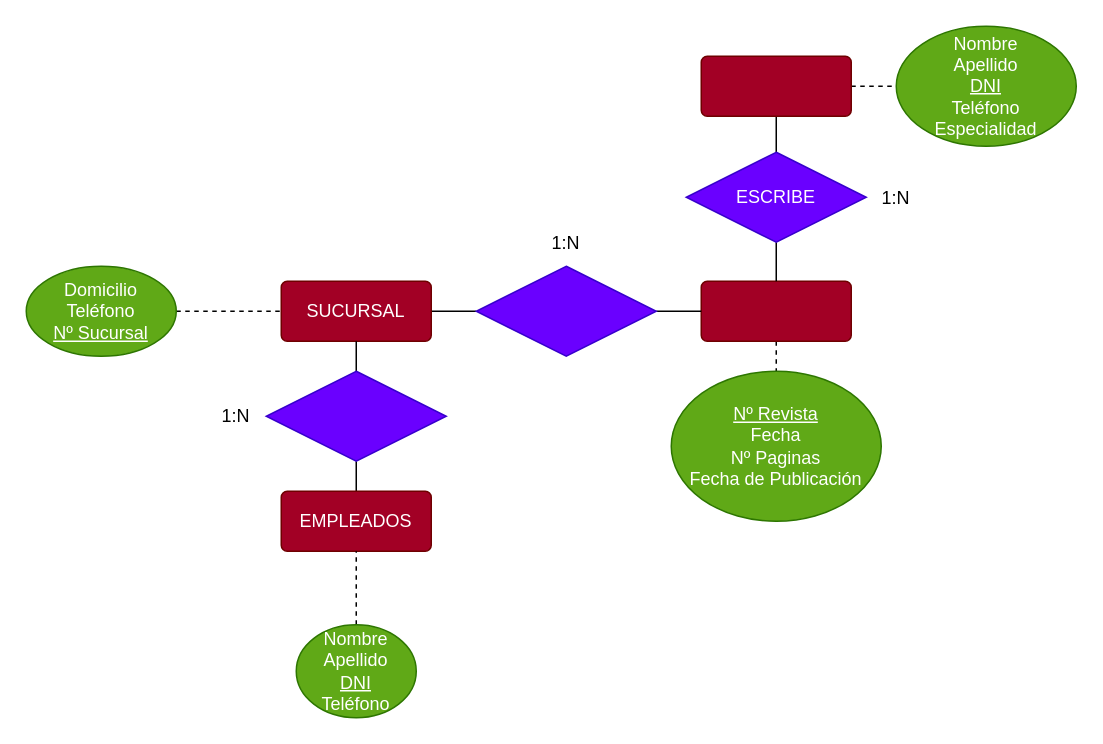
The diagram is 1103 pixels wide and 744 high, and some of its shapes have lost their labels. The centre of each missing label's shape, as x and y in pixels:
"PERIODISTA" belongs at (x=775, y=85).
"REVISTAS" belongs at (x=775, y=310).
"TIENE" belongs at (x=565, y=310).
"TRABAJA" belongs at (x=355, y=415).
